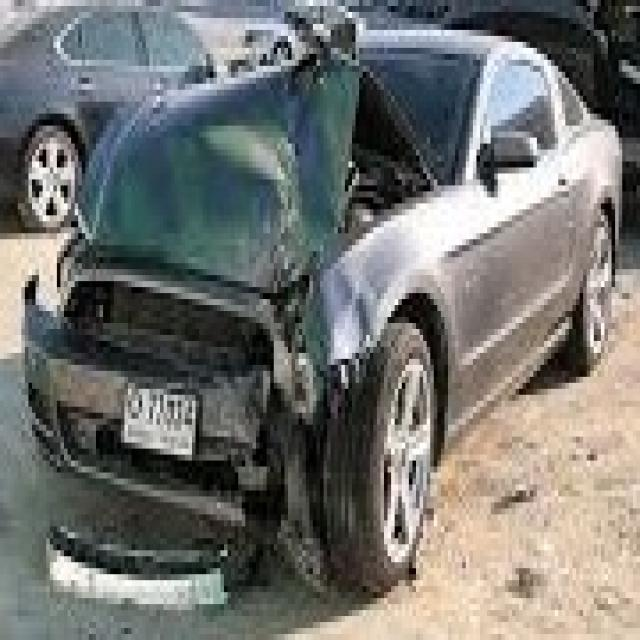severe: (34, 7, 443, 628)
